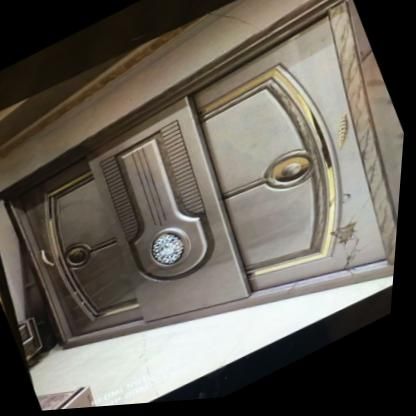Ceramic floor: (36, 281, 398, 409)
Closet: (0, 0, 402, 351)
